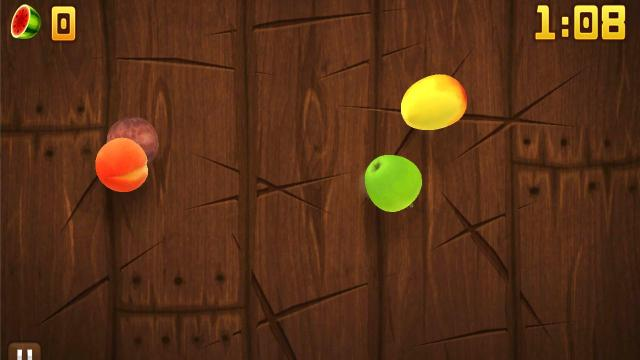fruit: (400, 74, 468, 130), (364, 153, 422, 211), (94, 136, 150, 192), (106, 116, 160, 164)
ignore: (10, 4, 42, 40)
